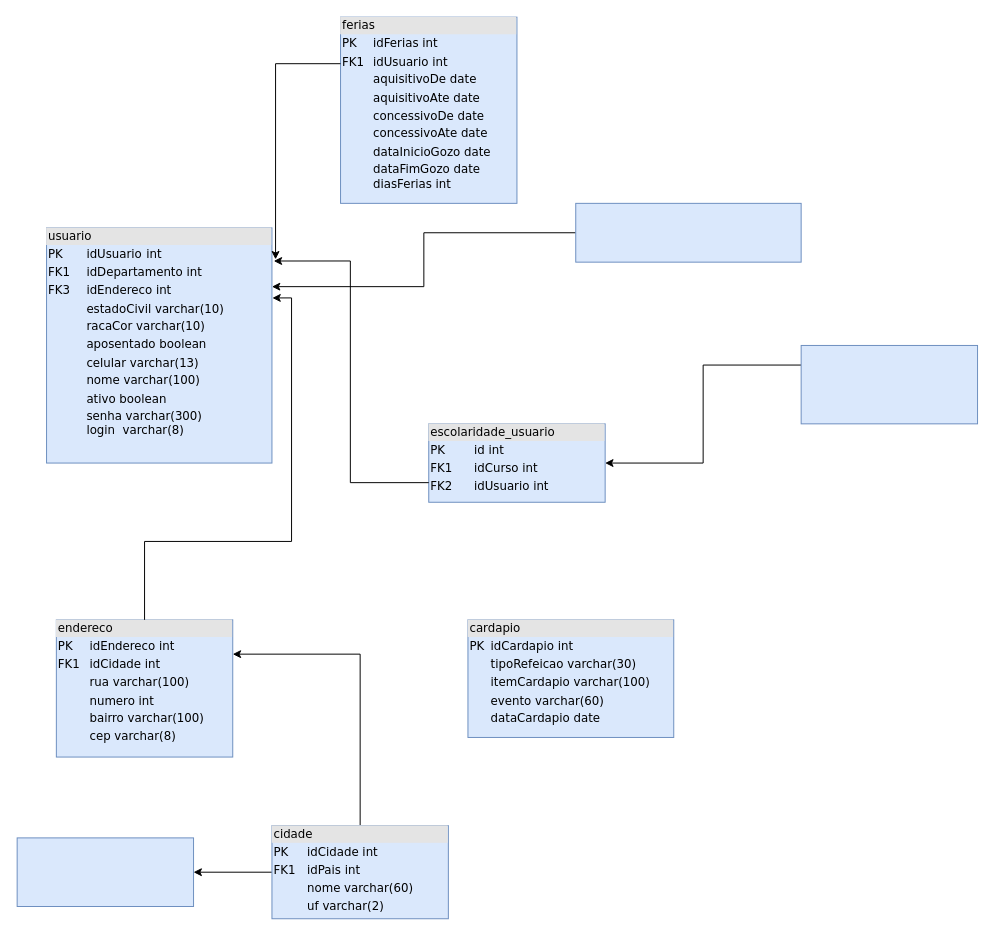
Some shapes in this 995 by 936 pixel diagram are drawn without their labels. Here are the shapes that lost their labels. From the top down, the box of each, then its label:
(575, 202, 801, 262): departamento PK idDepartamento int nomeDepartamento varchar(100)
(800, 344, 978, 424): curso PK idCurso int nome varchar(70) tipoCurso varchar(60)
(16, 837, 194, 906): pais PK idPais int nome varchar(60)
